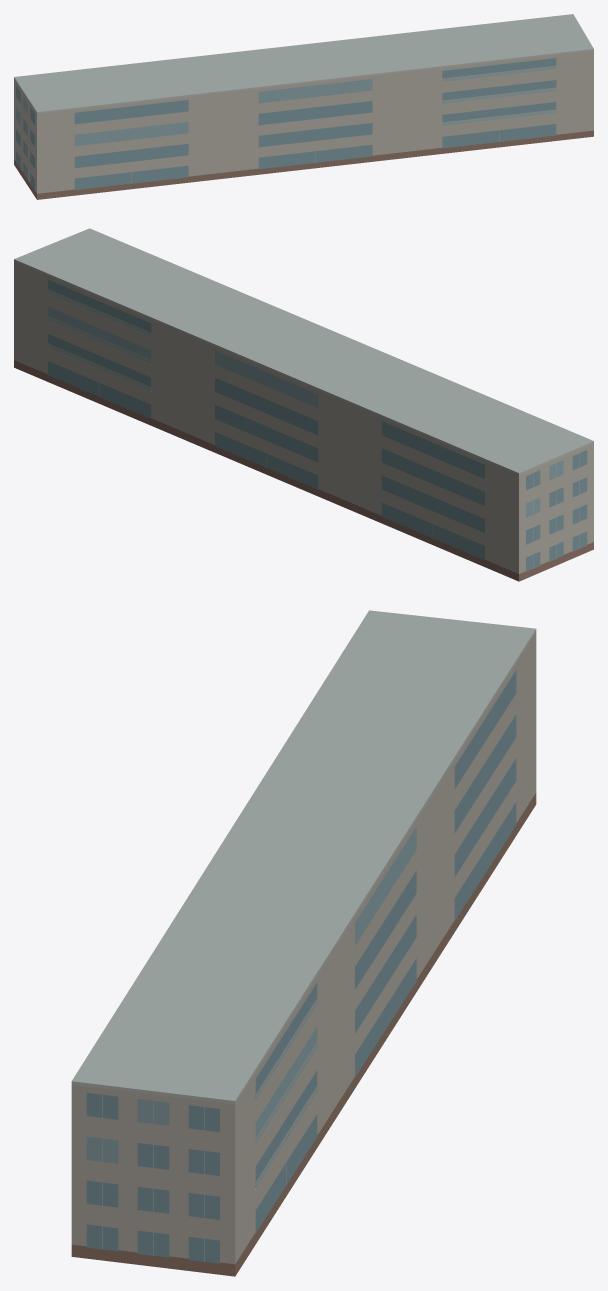
File: survey-upis-32731592.glb
3 renders of one model, top to bottom at view 1: azimuth 30°, elevation 25°; view 2: azimuth 150°, elevation 25°; view 3: azimuth 270°, elevation 25°, orthographic. The views are drawn at different scales.
Visible parts, largest first — view 1: survey-upis-32731592.tmp; view 2: survey-upis-32731592.tmp; view 3: survey-upis-32731592.tmp.
Boxes of the visible parts, x1,y1,x2,y2 form: survey-upis-32731592.tmp: [14, 14, 593, 199]; survey-upis-32731592.tmp: [14, 228, 593, 581]; survey-upis-32731592.tmp: [71, 610, 536, 1276].
Bounding box in the file's own units: 73.16 × 12.2 × 29.29.
